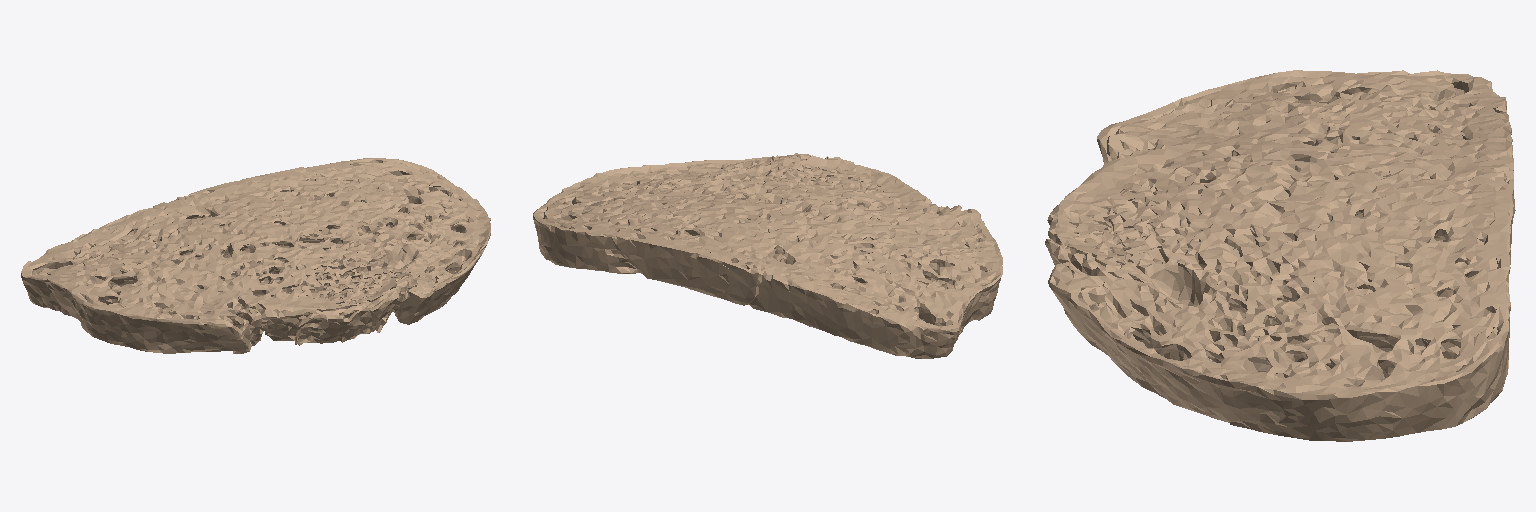
The robot description file, URDF, robot "bread_slice":
<robot name="bread_slice">
  <link name="bread_slice">
    <collision>
      <origin rpy="0 0 0" xyz="0. 0. 0.023"/>
      <geometry>
        <mesh filename="bread_slice.stl" scale="1. 1. 1."/>
      </geometry>
    </collision>
    <visual>
      <origin rpy="0 0 0" xyz="0. 0. 0.023"/>
      <material name="dough">
        <color rgba="0.78 0.68 0.58 1.0"/>
      </material>
      <geometry>
        <mesh filename="bread_slice.stl" scale="1. 1. 1." />
      </geometry>
    </visual>
  </link>
</robot>

--- What the picture shows (computed from the rendered views, not written in the file) ---
3 views of the same robot in one strip: view 1: azimuth 30°, elevation 25°; view 2: azimuth 150°, elevation 25°; view 3: azimuth 270°, elevation 25° (orthographic).
Model bread_slice with 1 links and 0 joints (none), rooted at bread_slice, posed all joints at 0.
Links seen in each view (by area): view 1: bread_slice; view 2: bread_slice; view 3: bread_slice.
Link boxes in pixels (x1,y1,x2,y2): bread_slice: [21, 158, 490, 353]; bread_slice: [533, 153, 1002, 358]; bread_slice: [1045, 70, 1515, 441].
Bounding box of the posed robot: 0.1448 × 0.0882 × 0.0216 m (x, y, z).
1 mesh visuals loaded from 1 distinct referenced files (1 binary STL).